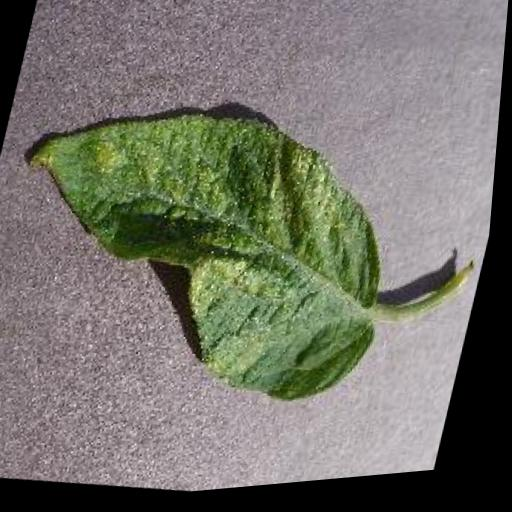Spider Mites: (0, 72, 428, 438)
